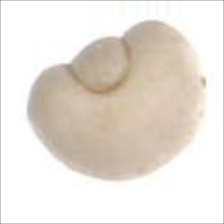L5: (63, 35, 137, 97)
L6: (25, 19, 208, 183)
